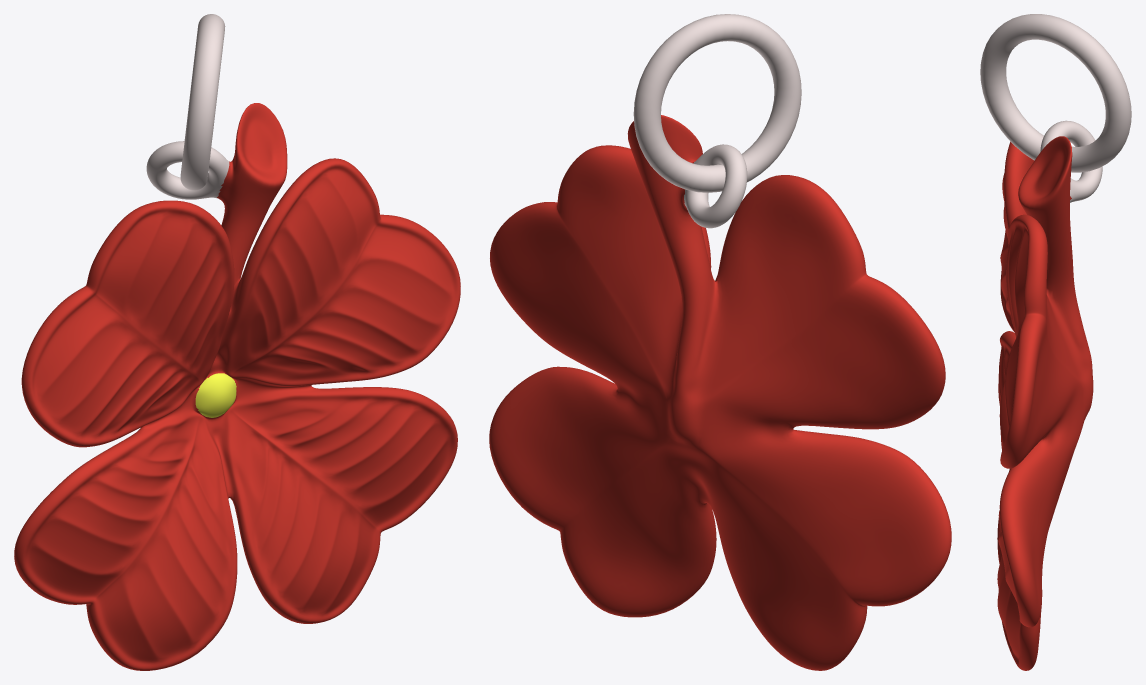
File: CHARMS2.glb
3 renders of one model, left to right at view 1: azimuth 30°, elevation 25°; view 2: azimuth 150°, elevation 25°; view 3: azimuth 270°, elevation 25°, orthographic. The views are drawn at different scales.
Visible parts, largest first — view 1: 11769_4leastclover_.001; view 2: 11769_4leastclover_.001; view 3: 11769_4leastclover_.001.
Part boxes in pixels (box(x1,y1,x2,y2)): 11769_4leastclover_.001: box(14, 14, 460, 670); 11769_4leastclover_.001: box(489, 14, 951, 670); 11769_4leastclover_.001: box(980, 14, 1131, 670).
Size of the model in its own units: 0.0138 by 0.0184 by 0.00416.
